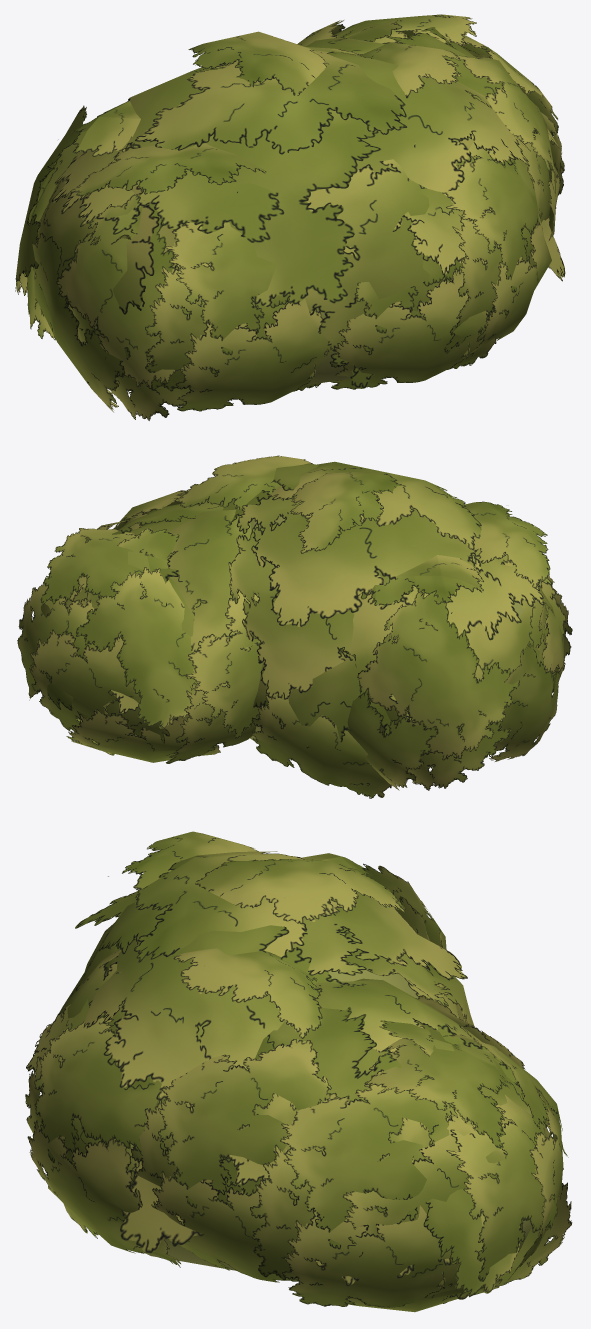
Rendered from bush.fbx.
The picture shows the model from 3 angles, top to bottom: view 1: azimuth 30°, elevation 25°; view 2: azimuth 150°, elevation 25°; view 3: azimuth 270°, elevation 25°; orthographic projection. The views are drawn at different scales.
Parts seen in each view (by area): view 1: bush; view 2: bush; view 3: bush.
Boxes of the visible parts, x1,y1,x2,y2 form: bush: (15, 14, 565, 420); bush: (17, 455, 572, 798); bush: (25, 831, 572, 1312).
Size of the model in its own units: 336 by 195 by 286.
